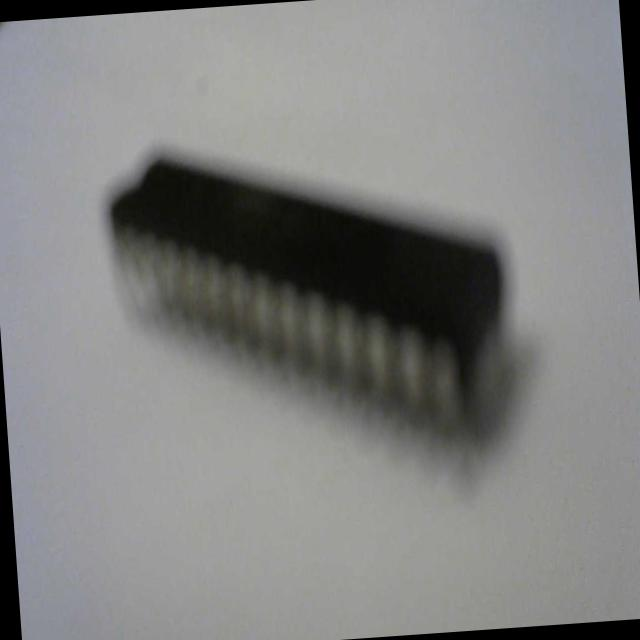atmega: (99, 118, 524, 482)
